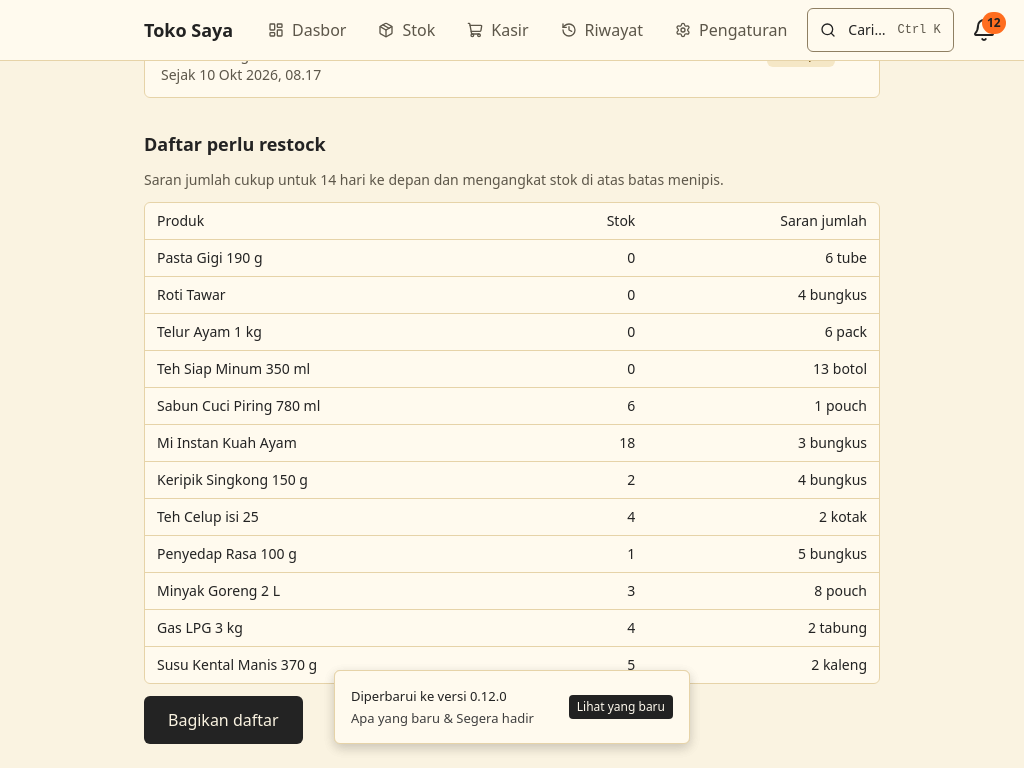
Bagikan daftar › salin gagal: pesan jelas dan tautan WhatsApp tetap tersedia
(page scrolled)
Click the button "Bagikan daftar".
click(223, 720)  # box x1=144 y1=696 x2=303 y2=744
(page scrolled)
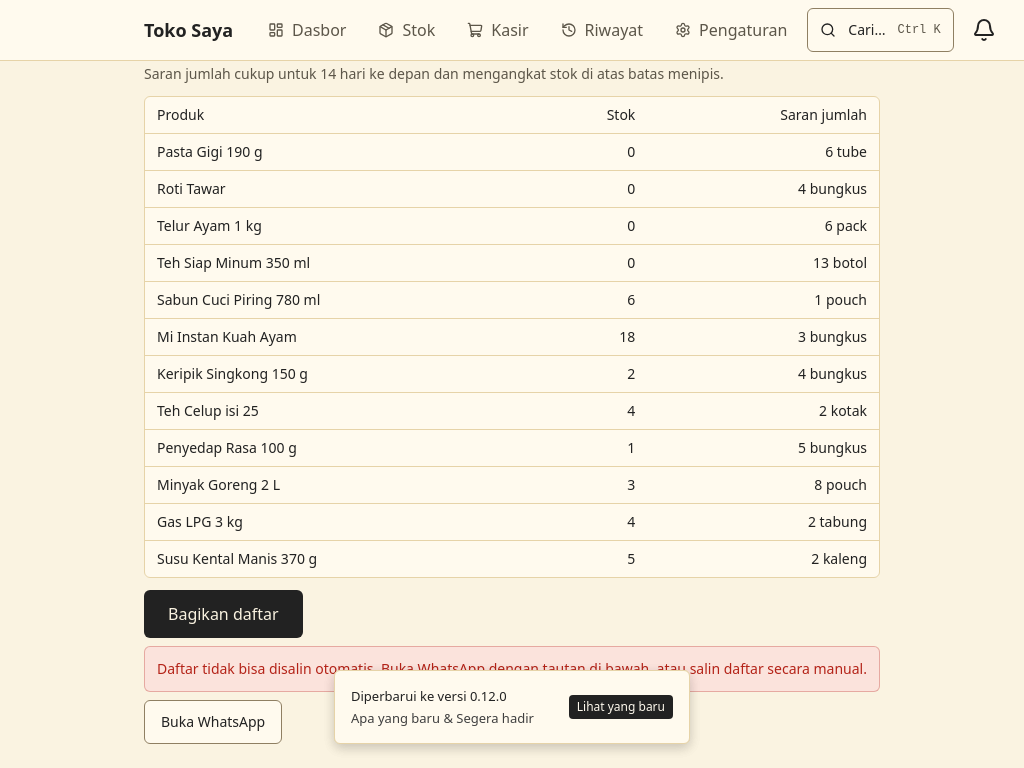
Result: the text "tidak bisa disalin otomatis" is shown at x1=157 y1=659 x2=867 y2=678
Result: the link "Buka WhatsApp" is shown at x1=144 y1=700 x2=282 y2=744
